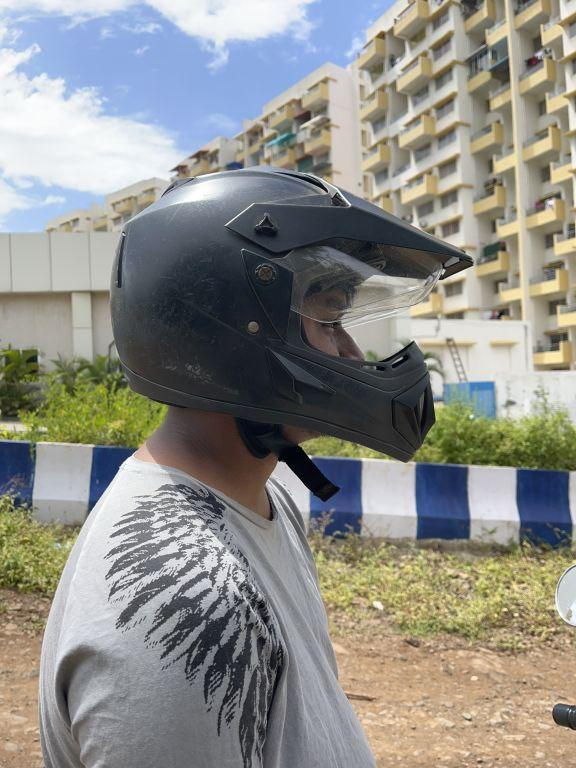helmet: (92, 137, 478, 490)
